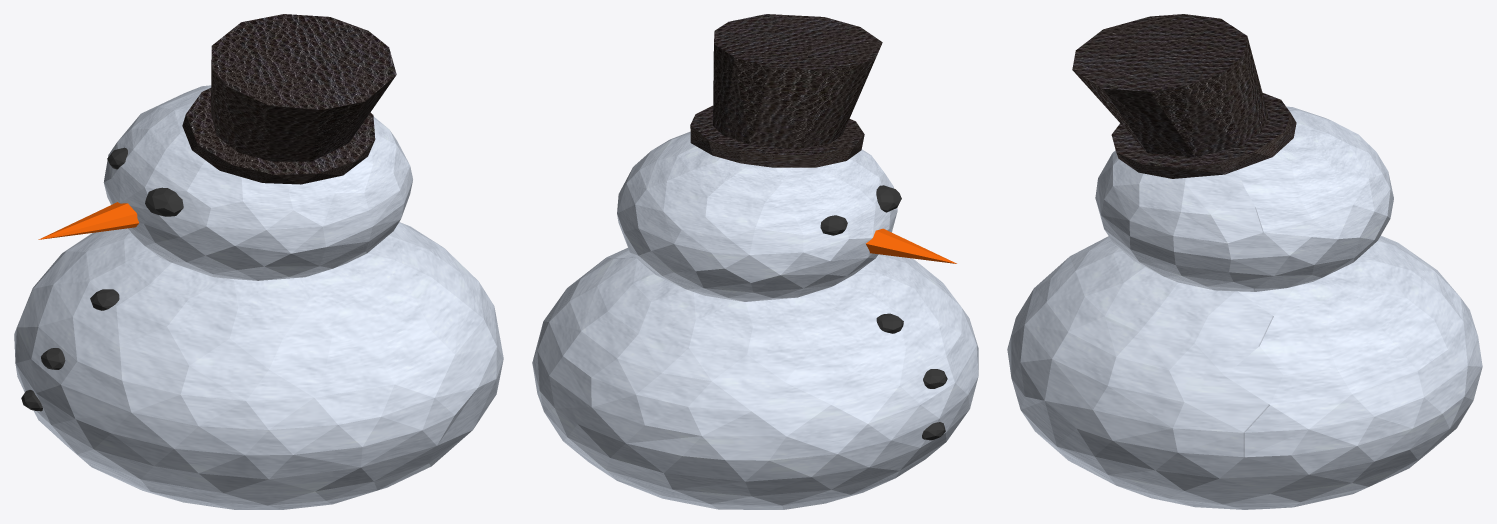
The model's file is bonhommeNeige.obj.
3 views of the same model, side by side, from view 1: azimuth 30°, elevation 25°; view 2: azimuth 150°, elevation 25°; view 3: azimuth 270°, elevation 25° (orthographic). The views are drawn at different scales.
Parts seen in each view (by area): view 1: BonhommeNeige_Sphere.003; view 2: BonhommeNeige_Sphere.003; view 3: BonhommeNeige_Sphere.003.
Boxes of the visible parts, bbox=[...] form: BonhommeNeige_Sphere.003: bbox=[14, 14, 503, 509]; BonhommeNeige_Sphere.003: bbox=[532, 14, 978, 509]; BonhommeNeige_Sphere.003: bbox=[1007, 14, 1482, 509].
Bounding box in the file's own units: 1 × 1 × 1.
